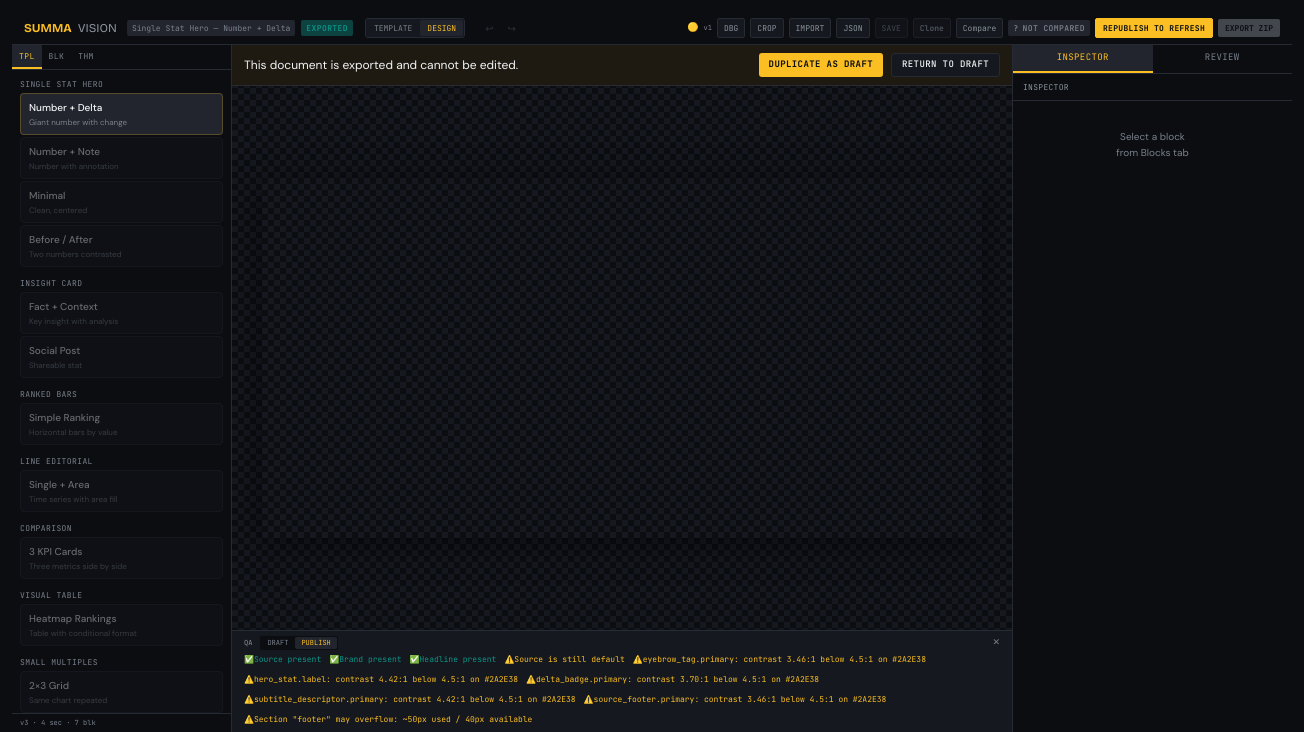
PR-09 Scenario 4 — Reasons tooltip i18n coverage › renders i18n label for reason: mapping_version_changed
Click the button with test id "compare-button" at (980, 28), box [956,18,1003,38]
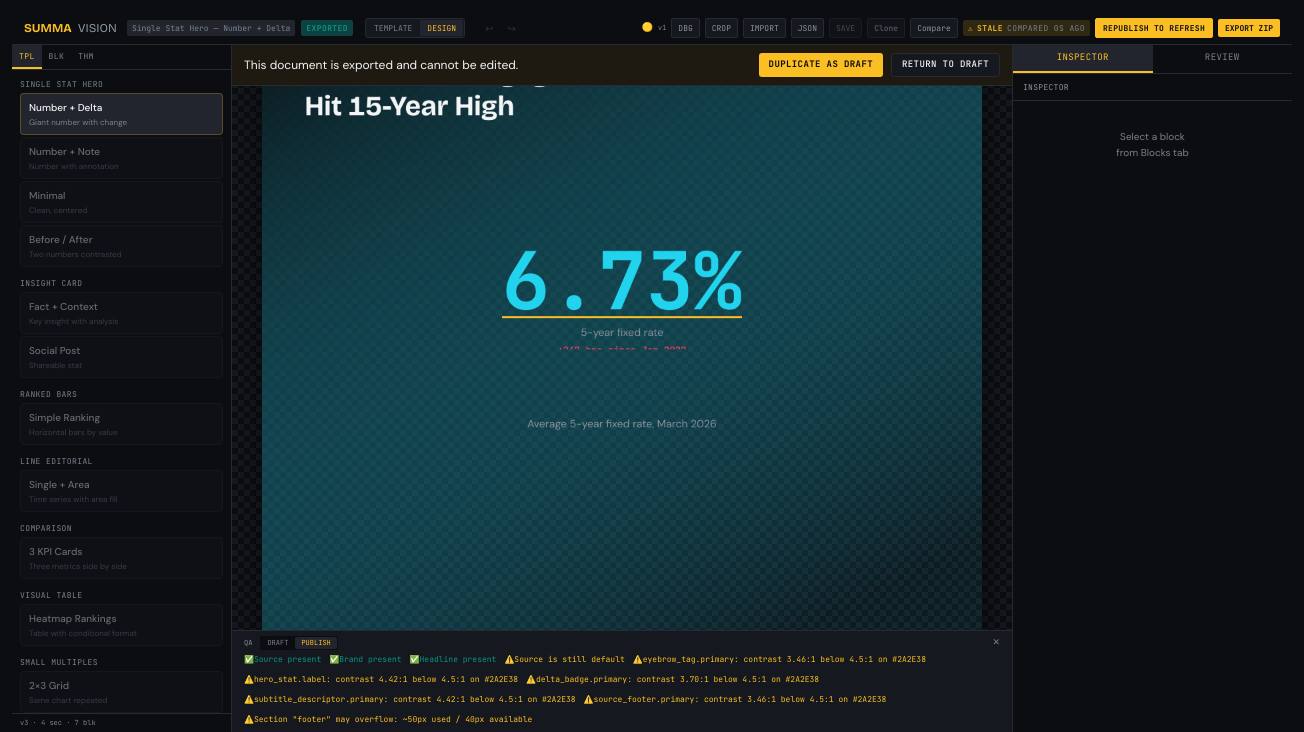
Hover over the element with test id "compare-badge-wrapper" at (1026, 28), box [963,20,1090,36]
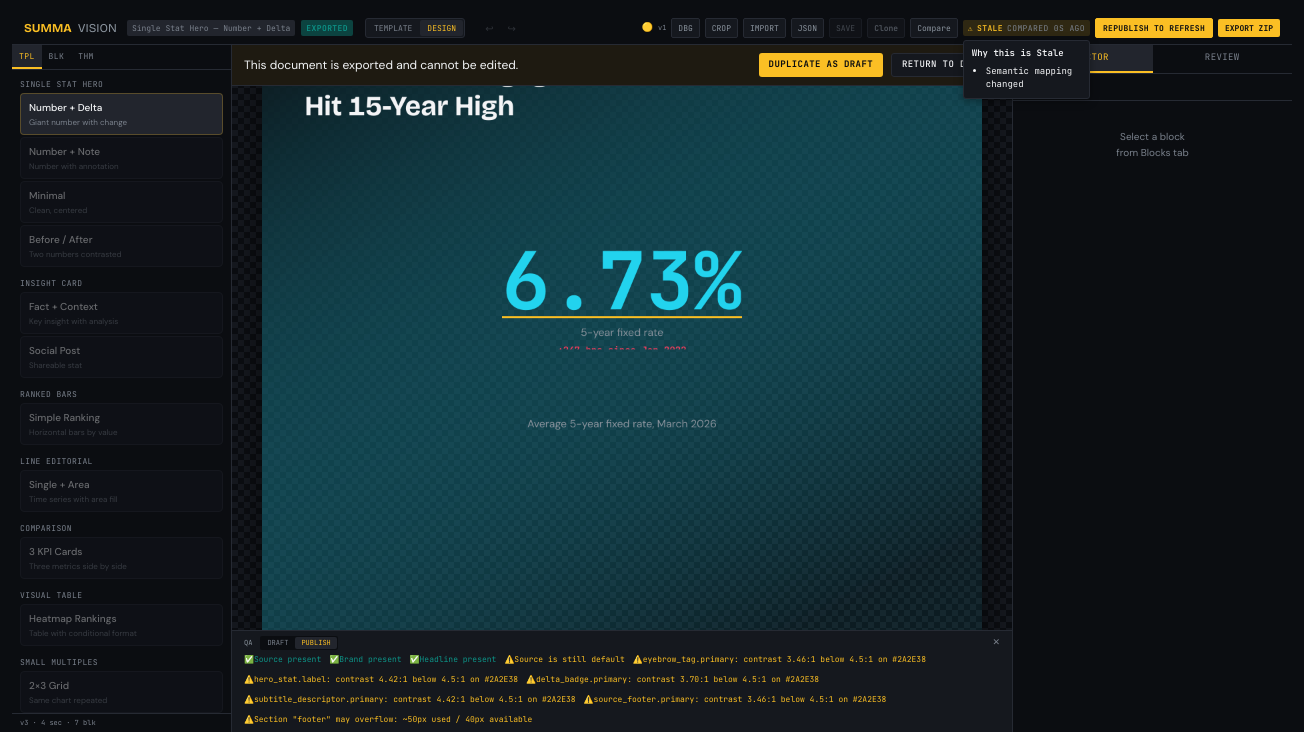
Expected: the list item "Semantic mapping changed" is shown, [986,64,1081,92]
